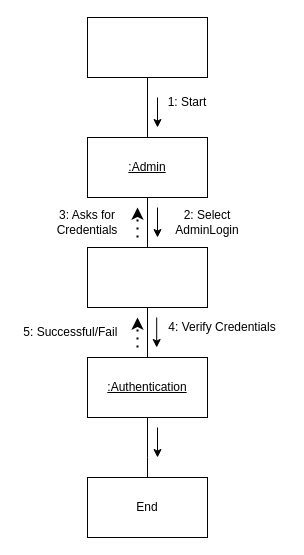
This 304x555 diagram has some shape labels left out. The centre of each missing label's shape, as x and y in pixels:
:System: pixel 147 277
Initialization: pixel 147 47
